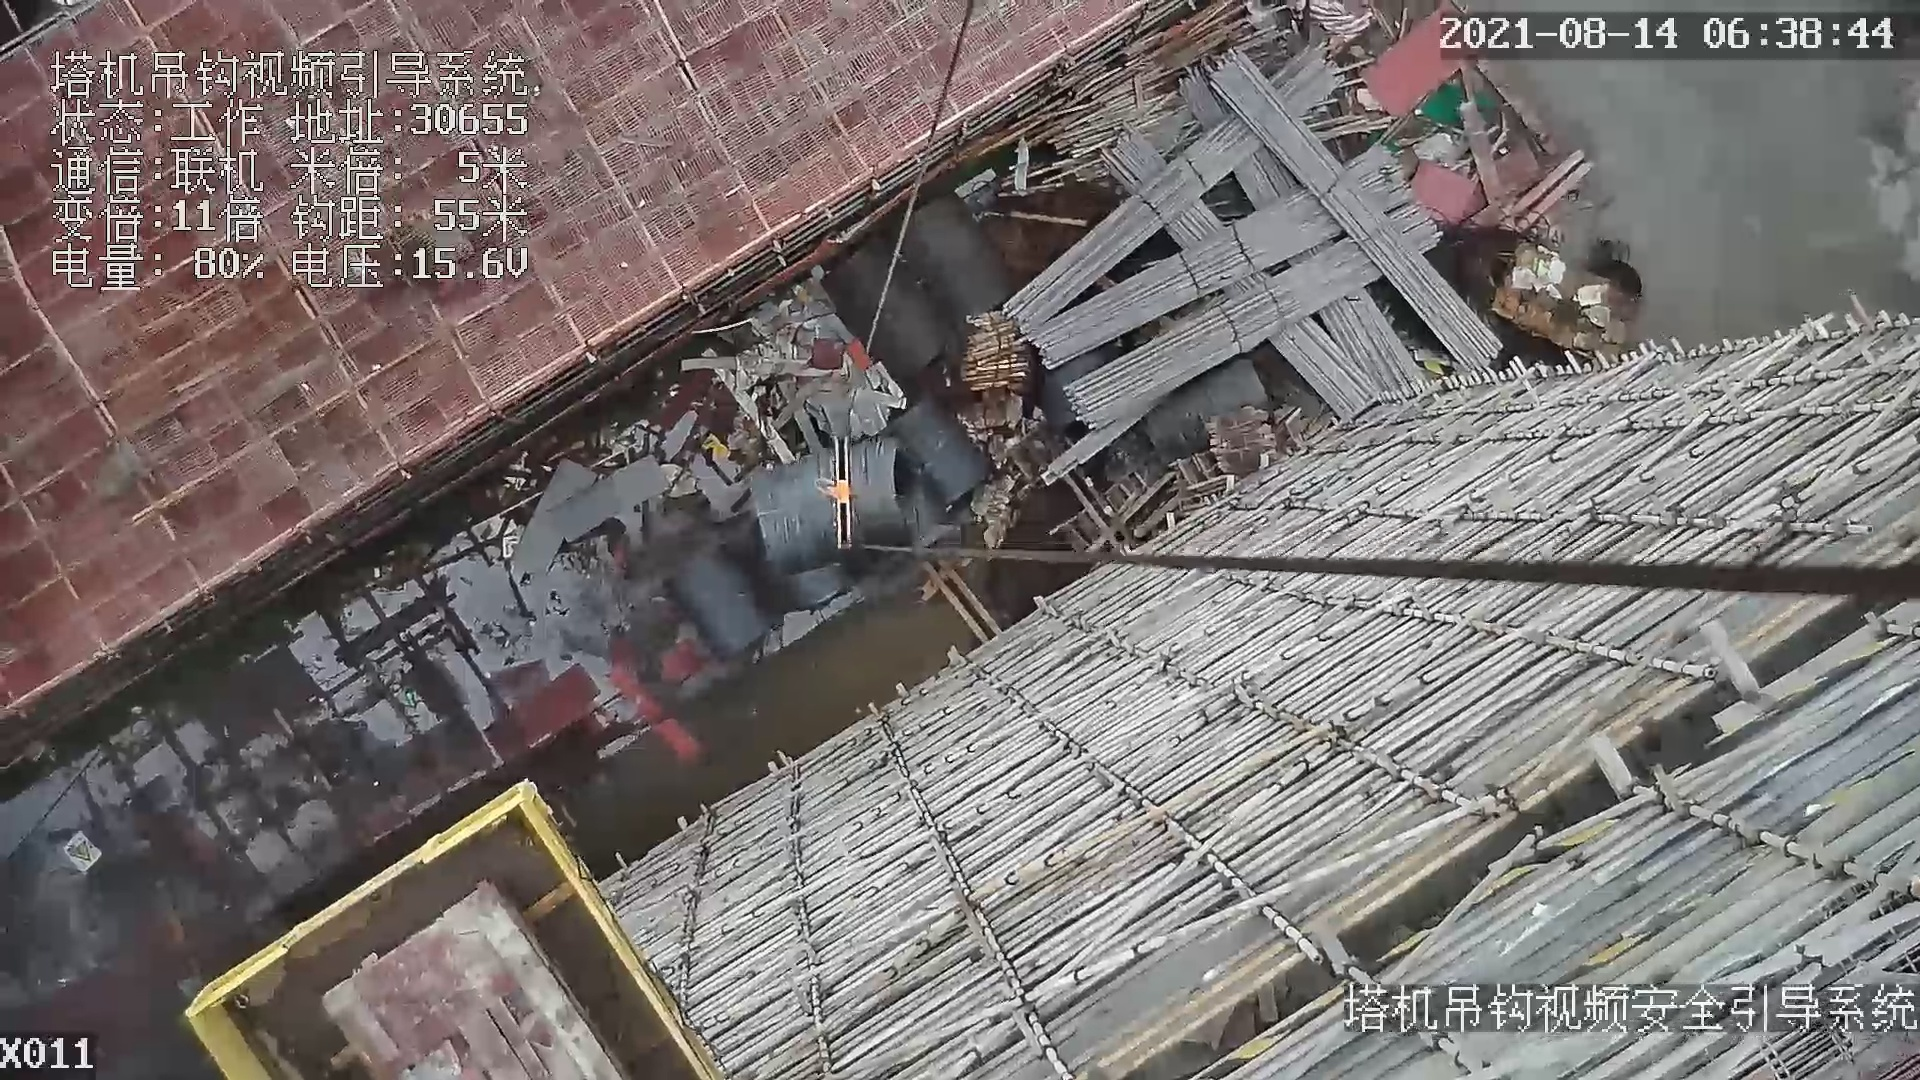hook: (818, 435, 865, 553)
